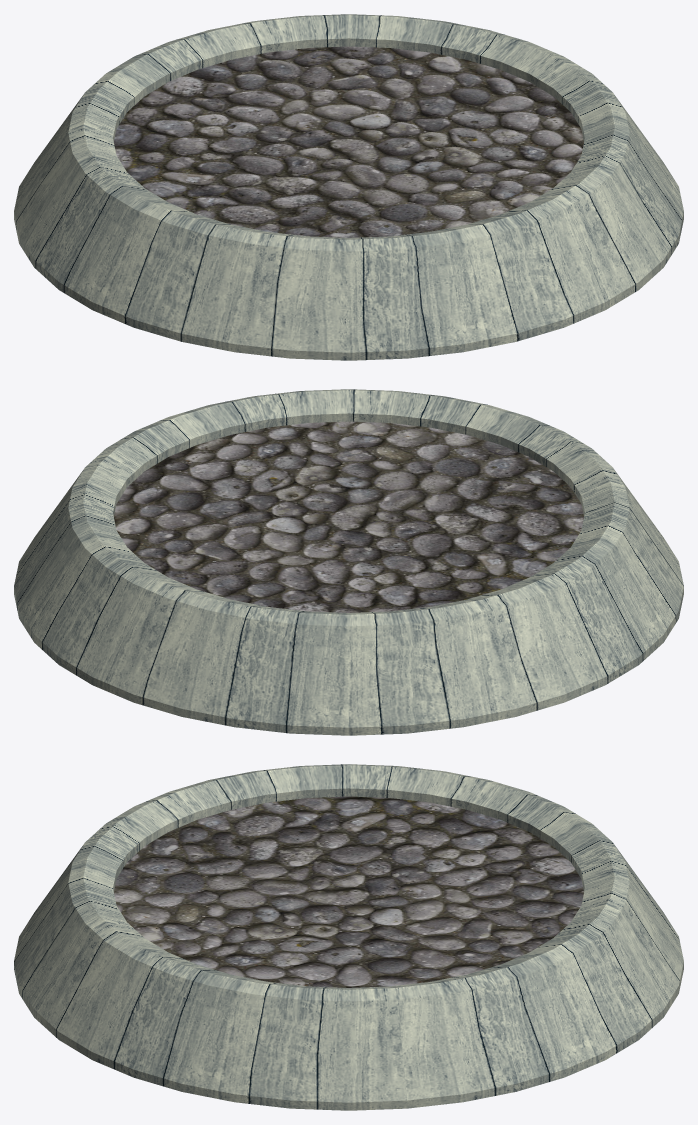
Rendered from Model_Platform.FBX.
The picture shows the model from 3 angles, top to bottom: view 1: azimuth 30°, elevation 25°; view 2: azimuth 150°, elevation 25°; view 3: azimuth 270°, elevation 25°; orthographic projection.
Parts seen in each view (by area): view 1: Cylinder001; view 2: Cylinder001; view 3: Cylinder001.
Boxes of the visible parts, bbox=[...] form: Cylinder001: bbox=[14, 14, 683, 360]; Cylinder001: bbox=[14, 389, 683, 735]; Cylinder001: bbox=[14, 764, 683, 1110].
Bounding box in the file's own units: 22.11 × 3.34 × 22.11.
